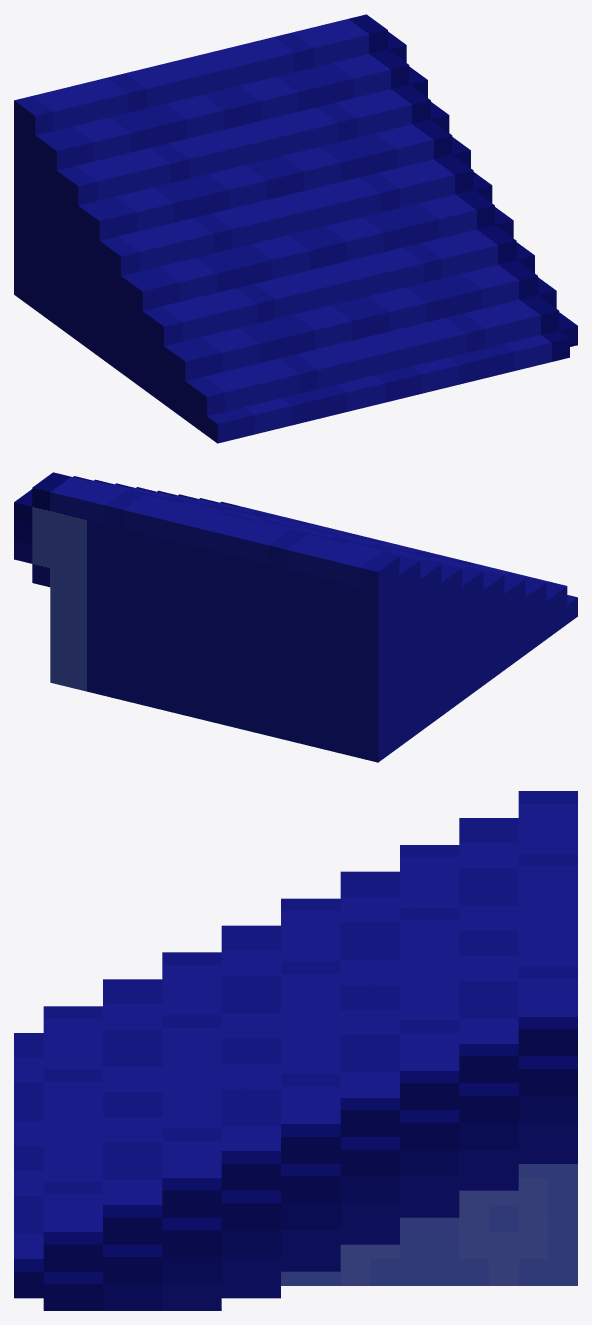
File: half_top_ramp_bot_right.glb
3 views of the same model, one above another, from view 1: azimuth 30°, elevation 25°; view 2: azimuth 150°, elevation 25°; view 3: azimuth 270°, elevation 25° (orthographic). The views are drawn at different scales.
Parts seen in each view (by area): view 1: half_top_ramp_bot_right; view 2: half_top_ramp_bot_right; view 3: half_top_ramp_bot_right.
Boxes of the visible parts, box(x1,y1,x2,y2) form: half_top_ramp_bot_right: box(14, 14, 577, 443); half_top_ramp_bot_right: box(14, 472, 577, 762); half_top_ramp_bot_right: box(14, 791, 577, 1310).
Bounding box in the file's own units: 2 × 1 × 1.9.
1 material, 1 textured.
